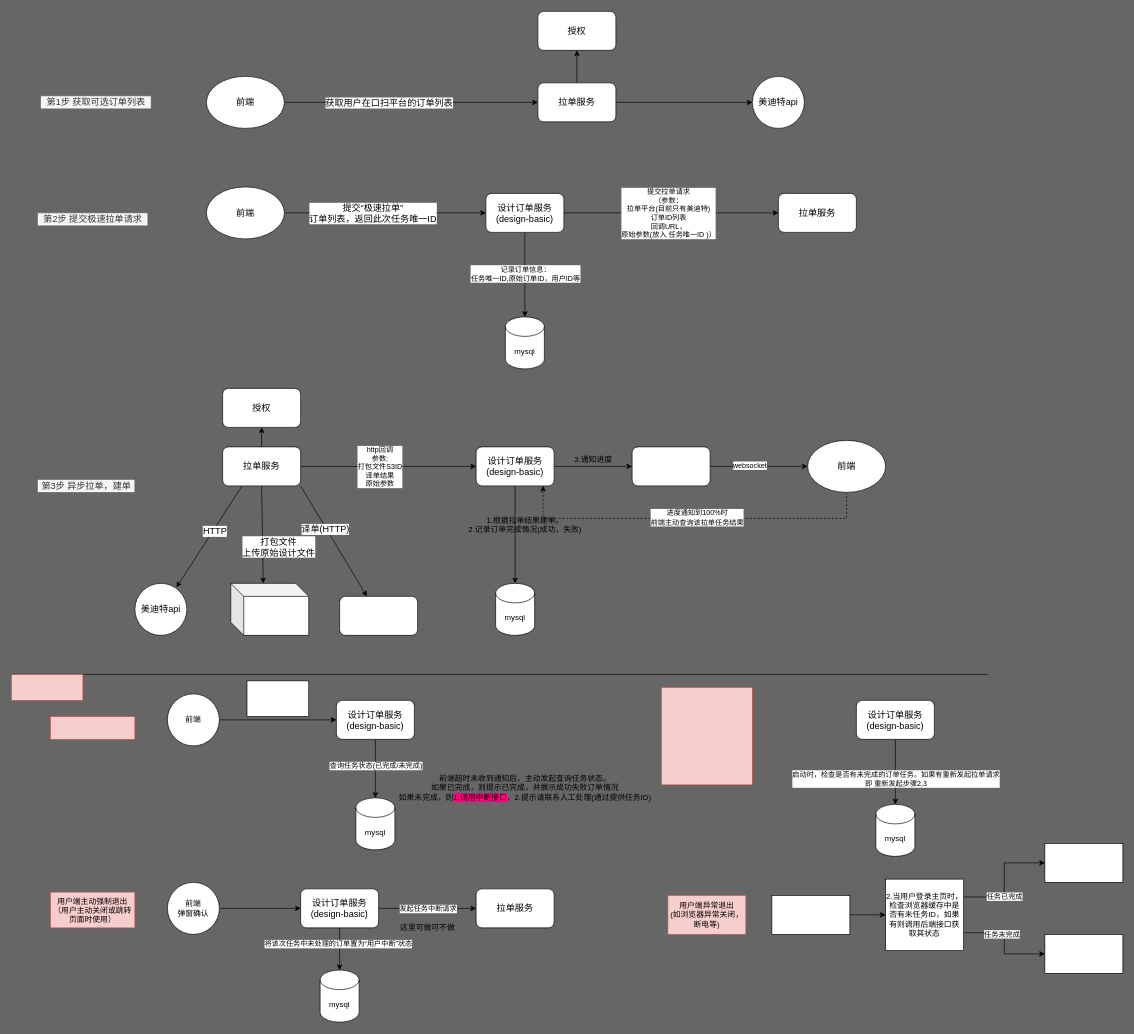
The diagram is 1134 pixels wide and 1034 high, and some of its shapes have lost their labels. The centre of each missing label's shape, as x and y in pixels:
"1.前端在任务开始后记录任务ID到浏览器缓存中，并在任务完成时删除。" belongs at point (810, 914).
"S3" belongs at point (269, 609).
"主动查询任务结果接口" belongs at point (277, 698).
"后端崩溃重启，自动重新加载任务 (不考虑实现，原因：可能造成用户无法感知的后台任务。） 使用前一种异常情况处理(超时提示人工处理)可以实现兜底" belongs at point (706, 736).
"异常处理情况(4种)" belongs at point (47, 687).
"弹窗展示任务结果" belongs at point (1083, 862).
"恢复拉单进度页面" belongs at point (1083, 953).
"订单文档翻译服务" belongs at point (378, 615).
"超时，进度通知无法达到100%" belongs at point (92, 727).
"通知服务" belongs at point (670, 466).
